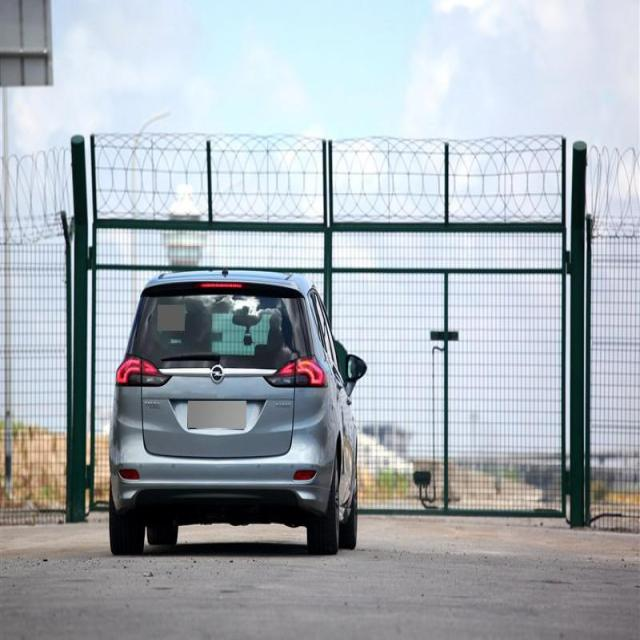back_glass: (125, 281, 311, 371)
back_left_side_light: (114, 354, 173, 388)
back_right_side_light: (263, 356, 329, 388)
front_right_side_mirror: (344, 352, 368, 397)
rear_bumper: (109, 413, 336, 513)
wheel: (306, 452, 340, 556), (108, 478, 146, 553)
